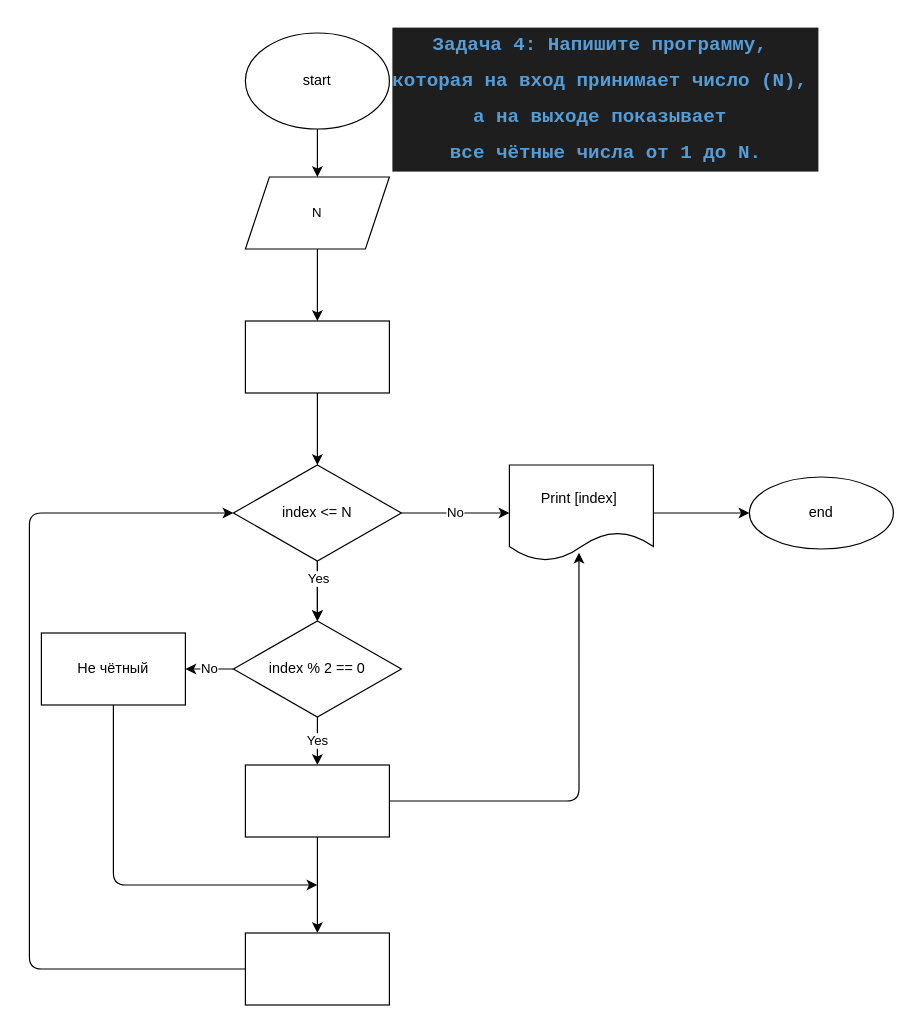
Image size: 914x1026. Some labels were removed from this diagram. Each missing label, with the centre of its shape:
"index = Чётный" belongs at (316,800).
"index++" belongs at (316,968).
"numbers = 1, N index =1" belongs at (316,356).
